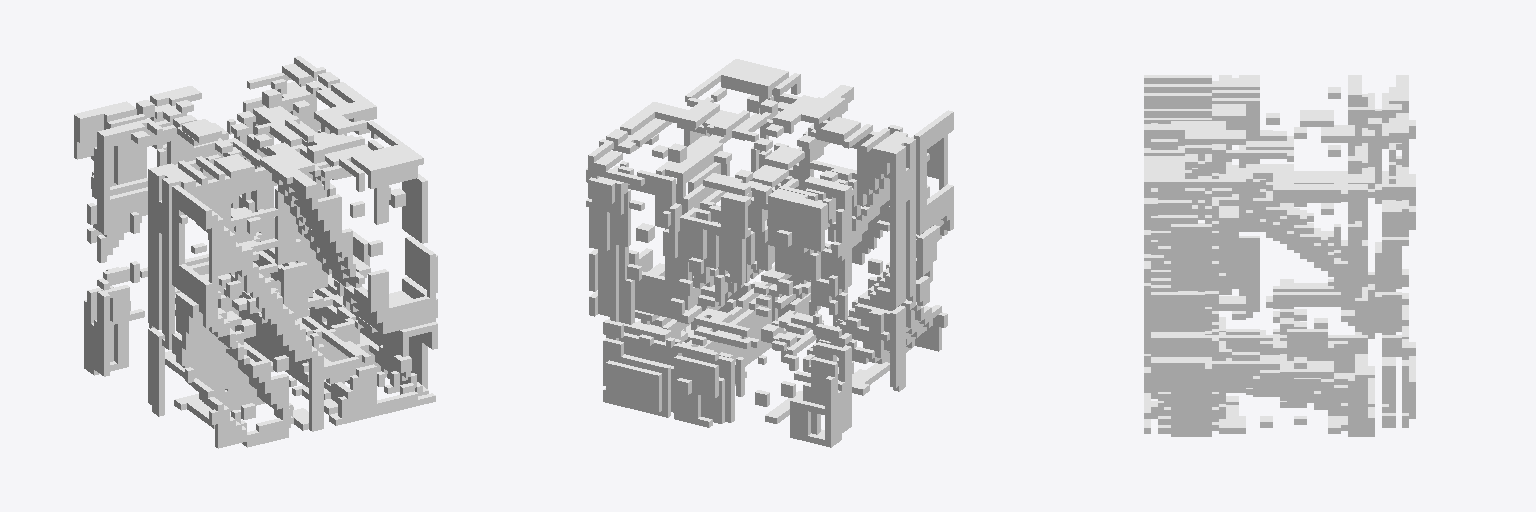
The model's file is building-1-c.obj.
The picture shows the model from 3 angles: view 1: azimuth 30°, elevation 25°; view 2: azimuth 150°, elevation 25°; view 3: azimuth 270°, elevation 25°; orthographic projection.
Parts seen in each view (by area): view 1: building-1-c; view 2: building-1-c; view 3: building-1-c.
Part boxes in pixels (bbox=[...]): building-1-c: bbox=[74, 56, 437, 448]; building-1-c: bbox=[586, 59, 953, 447]; building-1-c: bbox=[1144, 75, 1415, 436].
Bounding box in the file's own units: 40 × 40 × 40.